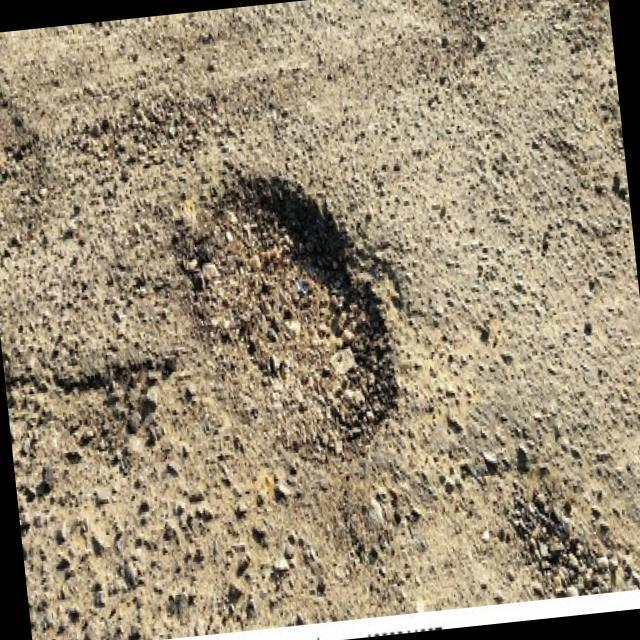pothole: (167, 156, 409, 478), (43, 350, 181, 477)
